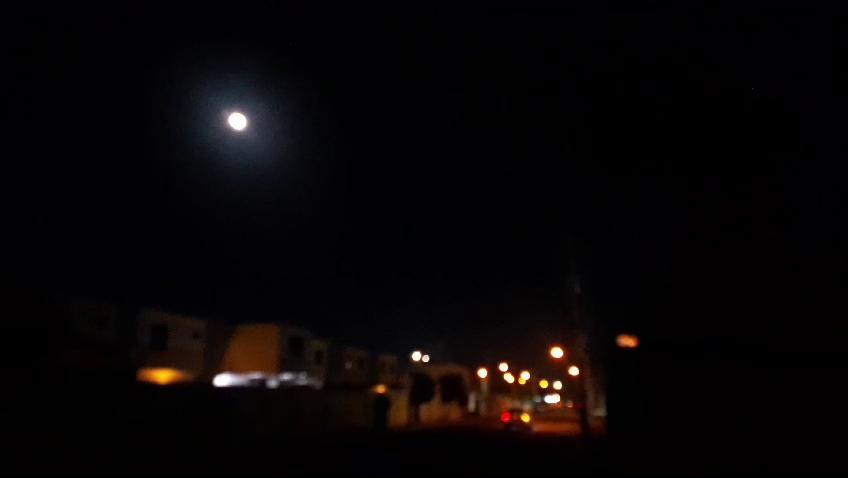moon: (226, 105, 253, 130)
